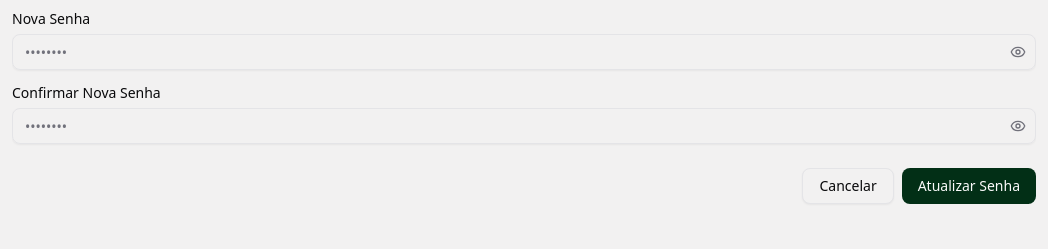
Test: ChangePasswordForm Feature › Integration Tests (UI Flow) › should display validation errors when submitted empty
Click the button "Atualizar Senha".
click(969, 186)  # box x1=902 y1=168 x2=1036 y2=204
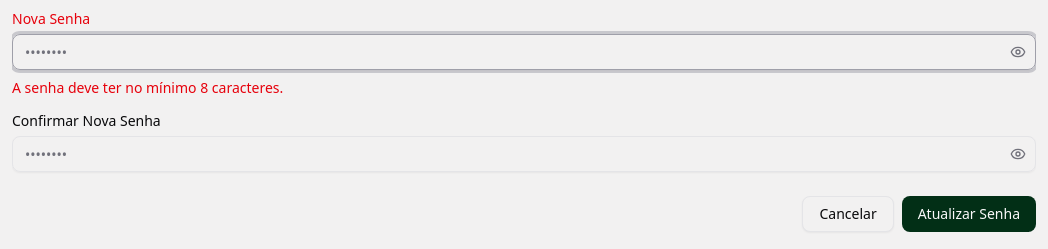
Now the text "A senha deve ter no mínimo 8 caracteres." is shown, box x1=12 y1=78 x2=283 y2=97
